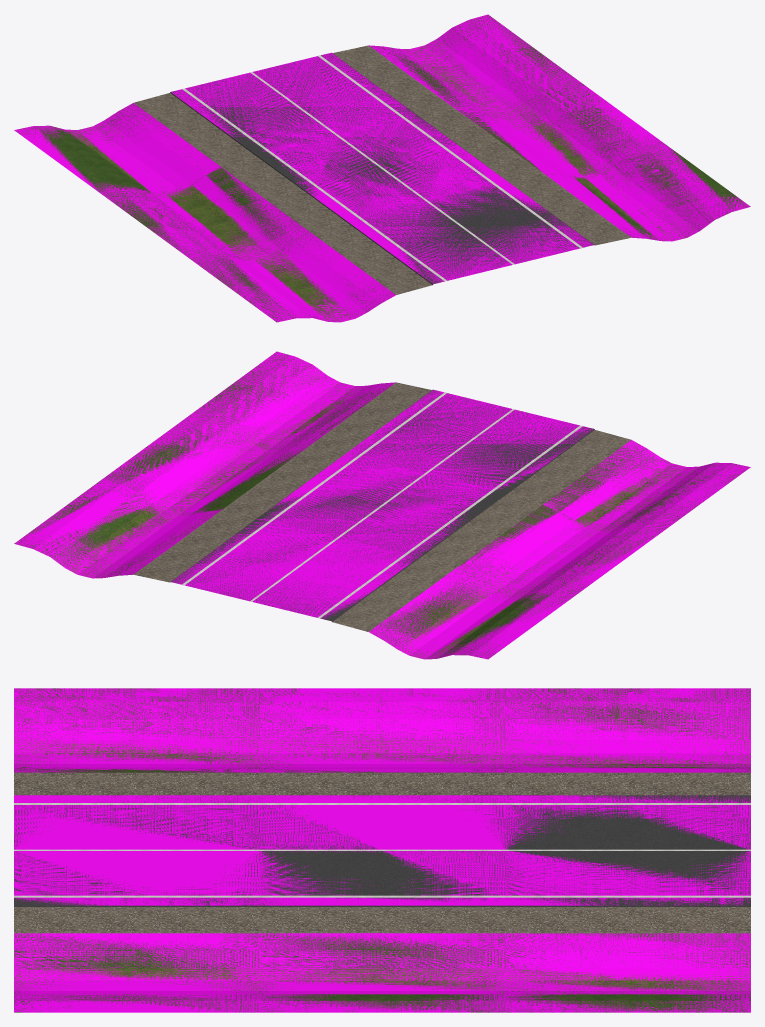
File: EN_Road_Country2_24m_Solid.fbx
3 views of the same model, one above another, from view 1: azimuth 30°, elevation 25°; view 2: azimuth 150°, elevation 25°; view 3: azimuth 270°, elevation 25° (orthographic). The views are drawn at different scales.
Visible parts, largest first — view 1: COL_DriveSurface, EN_Road_Country2_24m_Solid_Surface, EN_Road_Country2_24m_Solid_Markings; view 2: COL_DriveSurface, EN_Road_Country2_24m_Solid_Surface, EN_Road_Country2_24m_Solid_Markings; view 3: COL_DriveSurface, EN_Road_Country2_24m_Solid_Surface, EN_Road_Country2_24m_Solid_Markings.
Boxes of the visible parts, x1,y1,x2,y2 form: COL_DriveSurface: (14,14,750,322); EN_Road_Country2_24m_Solid_Surface: (17,15,750,322); EN_Road_Country2_24m_Solid_Markings: (182,55,582,281); COL_DriveSurface: (14,351,750,659); EN_Road_Country2_24m_Solid_Surface: (14,352,748,658); EN_Road_Country2_24m_Solid_Markings: (182,392,582,618); COL_DriveSurface: (14,688,750,1012); EN_Road_Country2_24m_Solid_Surface: (14,688,750,1012); EN_Road_Country2_24m_Solid_Markings: (14,803,750,897).
Size of the model in its own units: 25 by 0.786 by 24.
